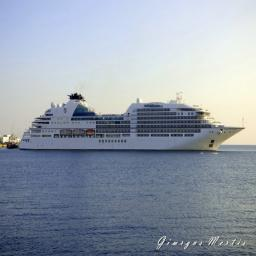cruises: (19, 92, 248, 155)
